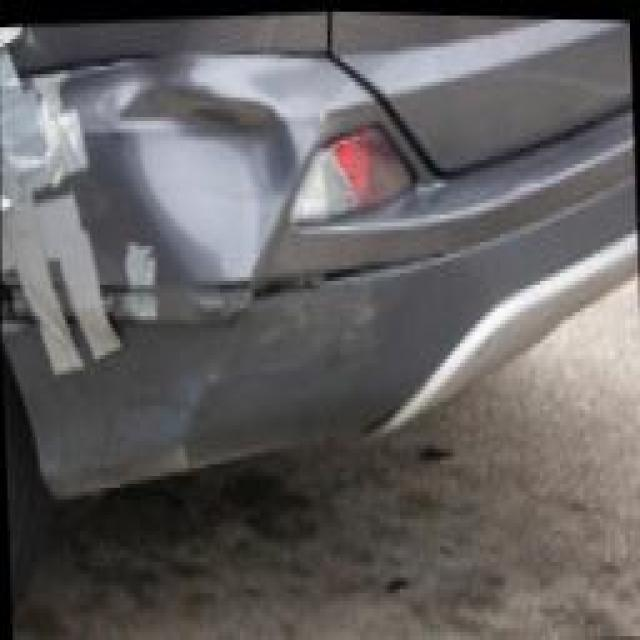Bumper: (85, 59, 406, 461)
